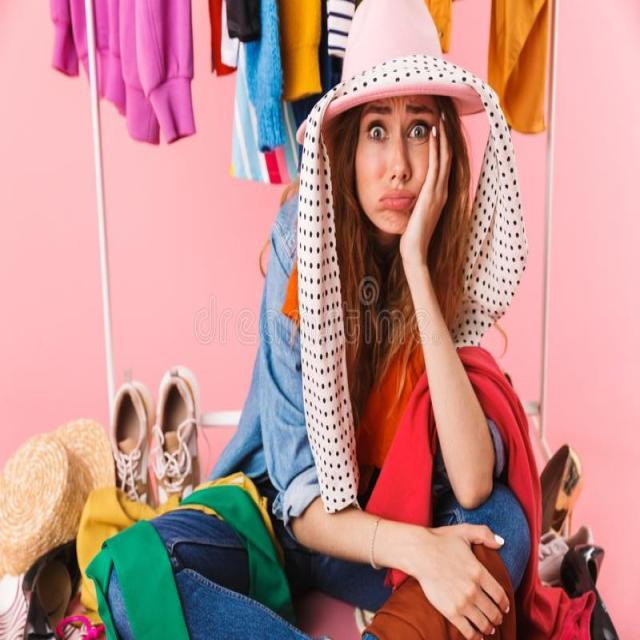clothes: (208, 162, 381, 515)
